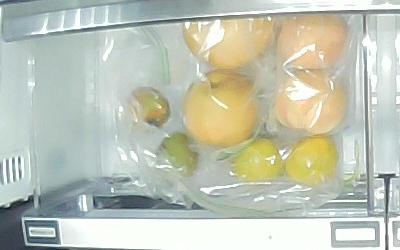peach_vinyl: (276, 13, 346, 69)
pear_vinyl: (183, 70, 259, 150), (273, 69, 349, 135), (182, 16, 273, 71)
tangerine_vinyl: (284, 135, 336, 185), (230, 137, 283, 182)
tomato_vinyl: (129, 86, 171, 132), (157, 132, 199, 177)
